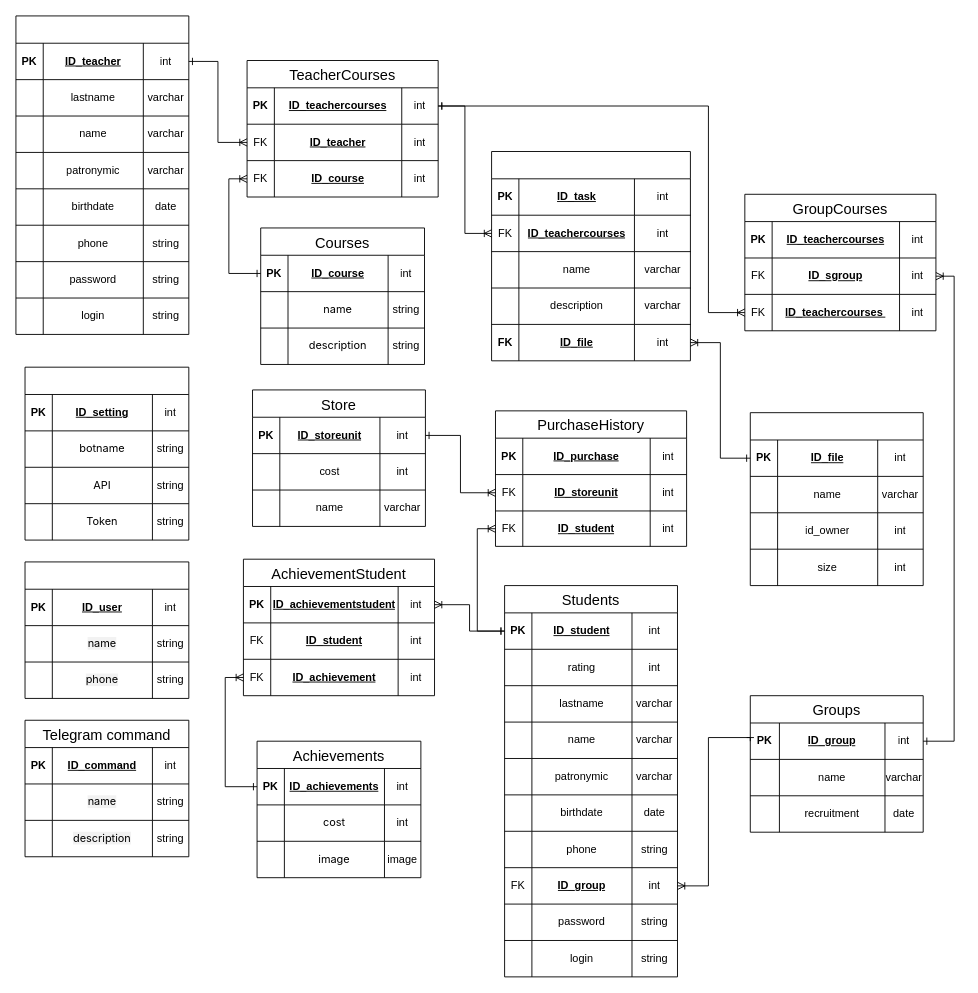
This 978x993 diagram has some shape labels left out. Each missing label, with the box of its shape:
Files: (749, 412, 923, 586)
Tasks: (491, 151, 690, 361)
Teachers: (15, 15, 189, 334)
Telegram settings: (24, 366, 189, 540)
Telegram users: (24, 561, 189, 698)
